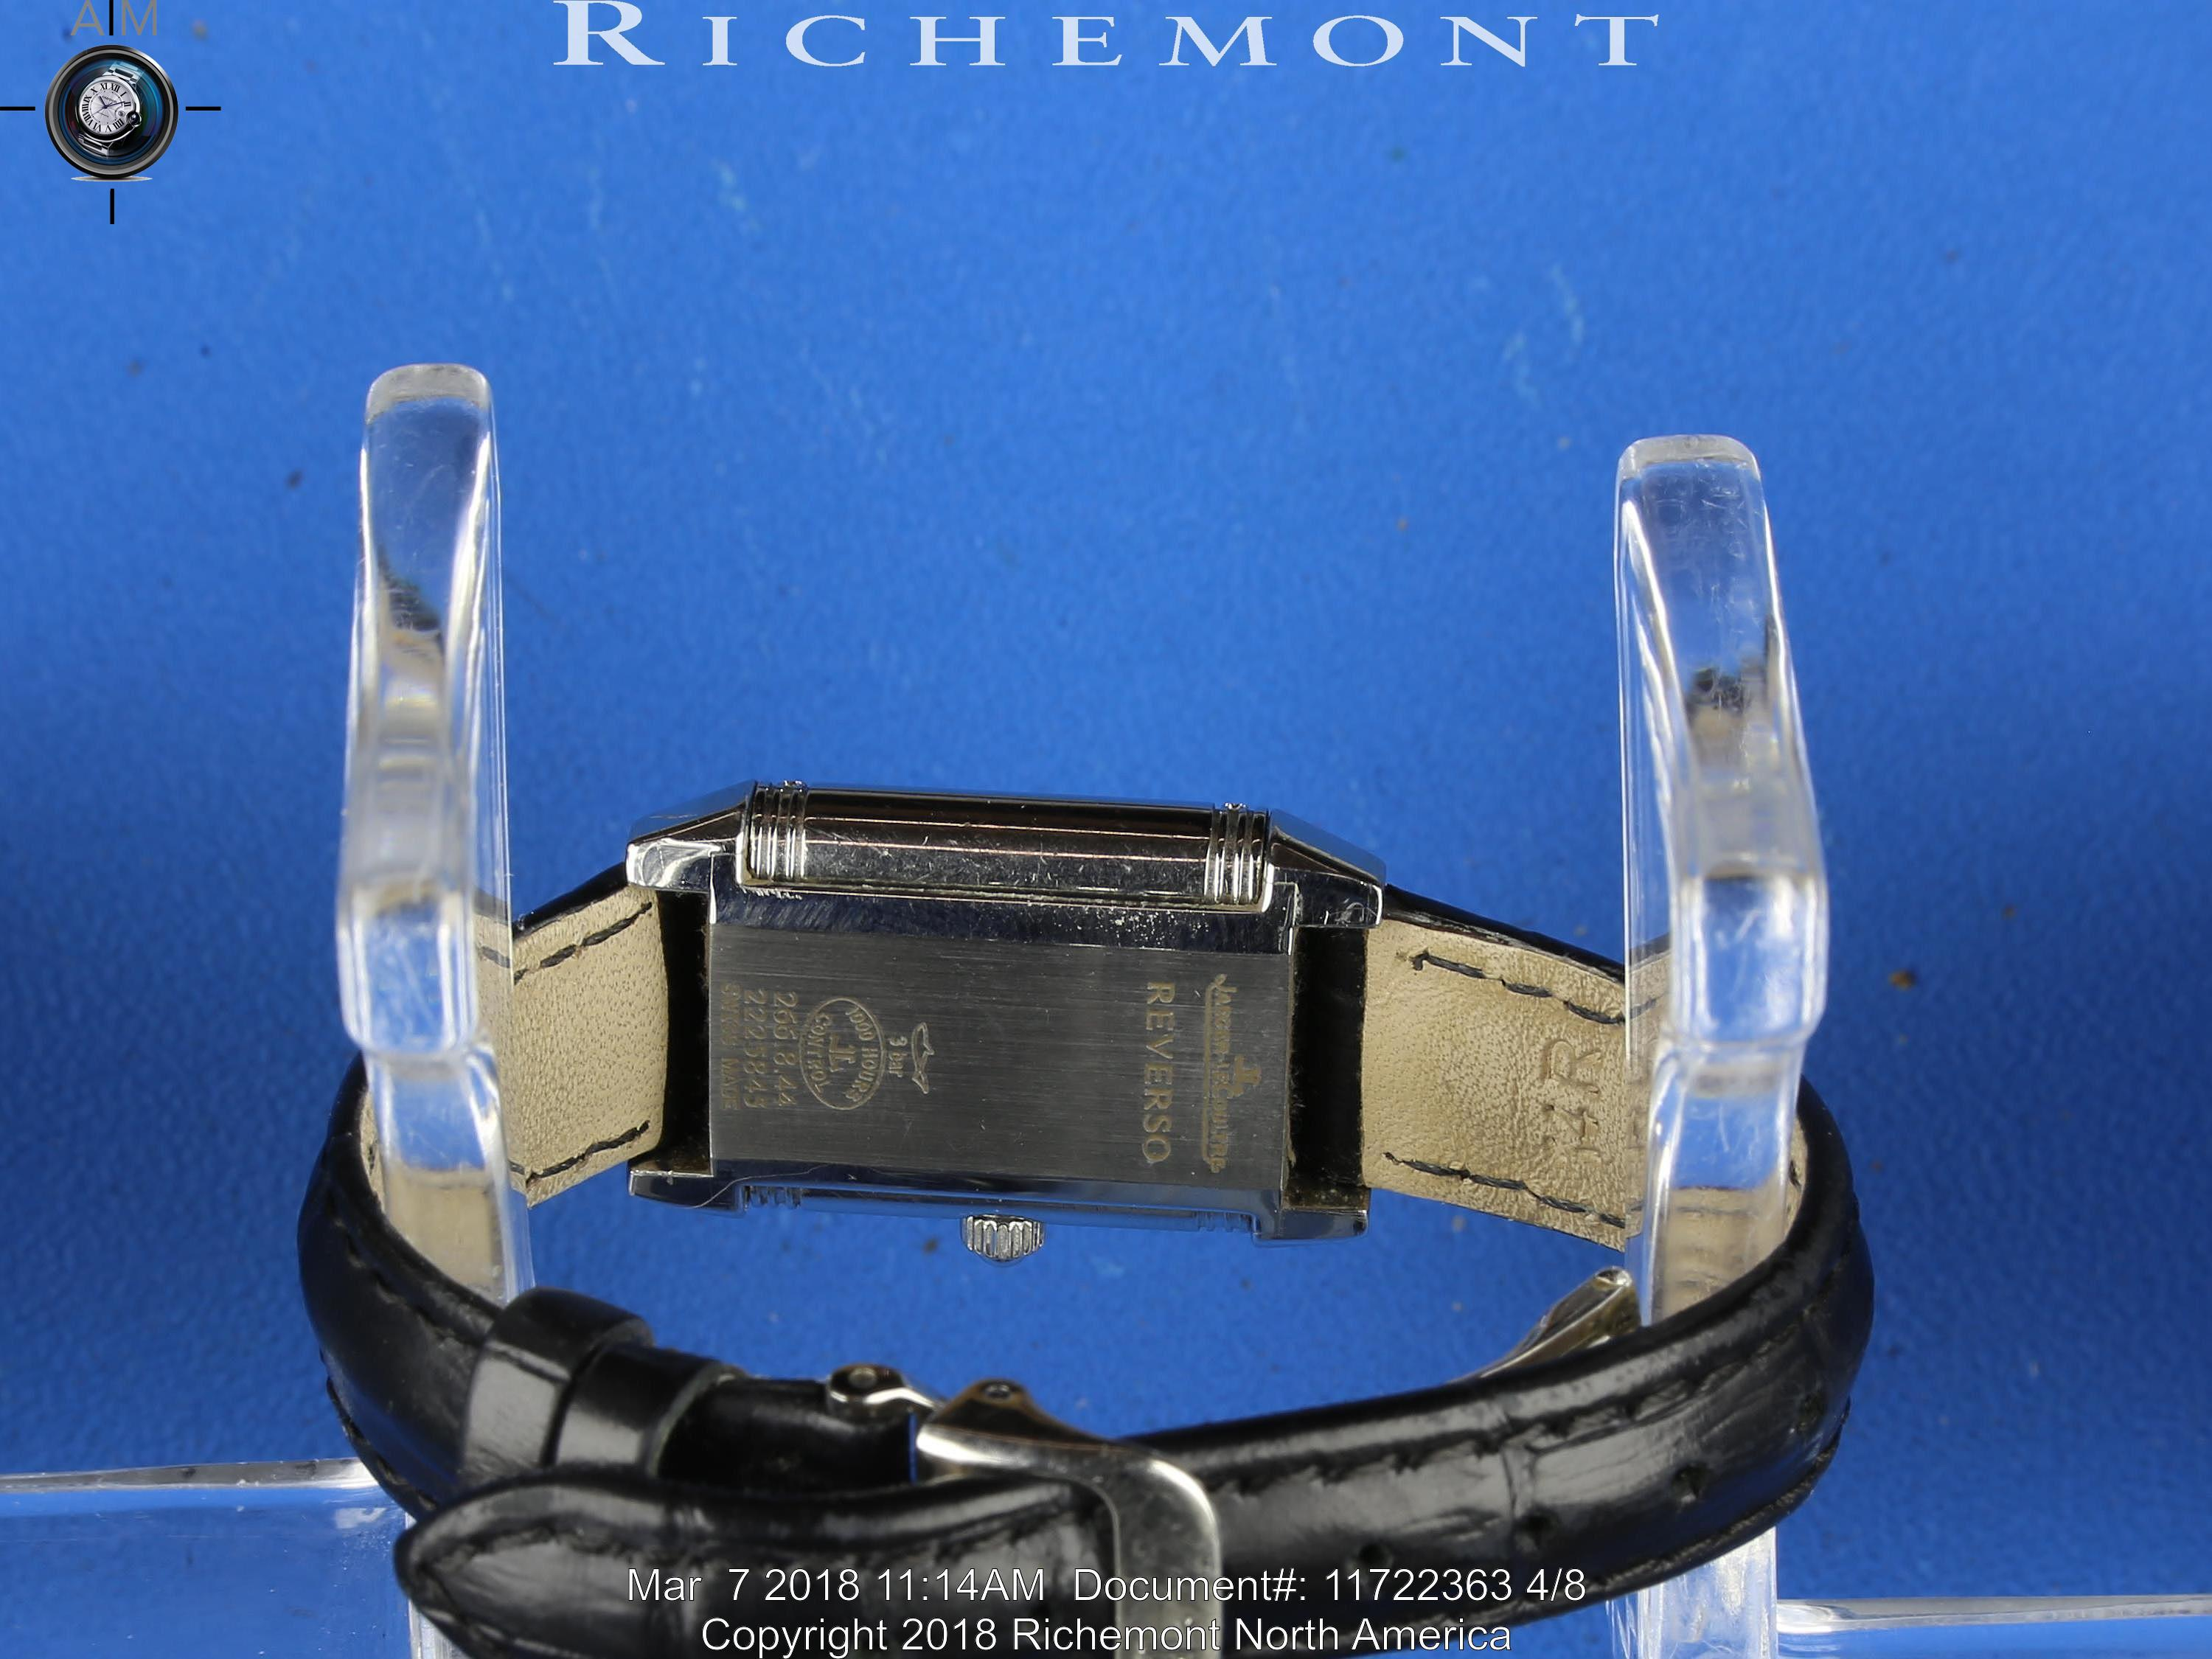Watch Back Case: (657, 772, 1379, 1258)
